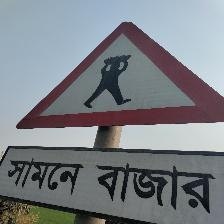Market-in-front: (0, 14, 224, 224)
